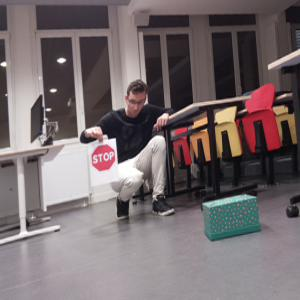stop: (91, 144, 116, 172)
